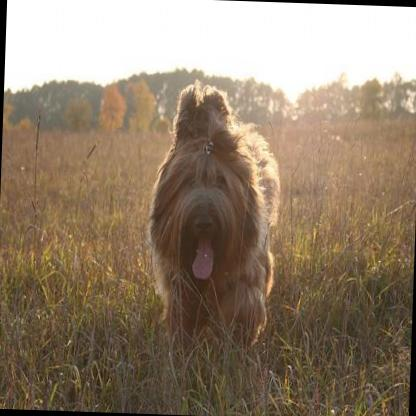briard: (145, 76, 282, 362)
